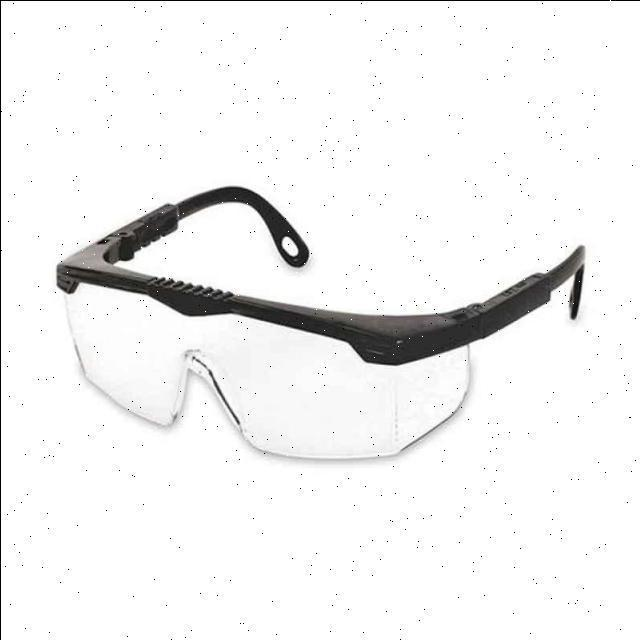Goggles: (41, 175, 593, 466)
